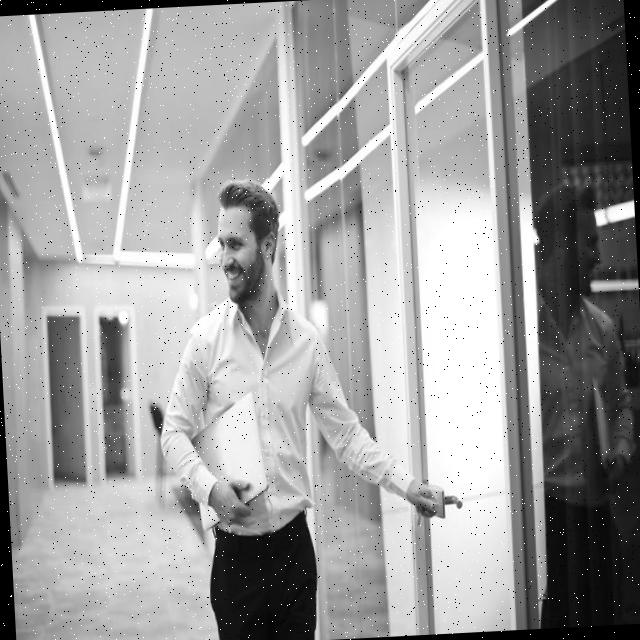Happiness: (212, 201, 269, 307)
